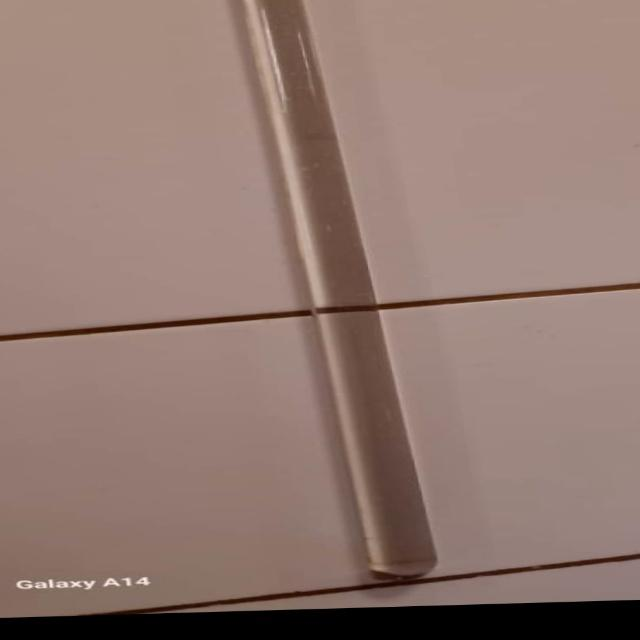Stirrer: (218, 0, 442, 594)
